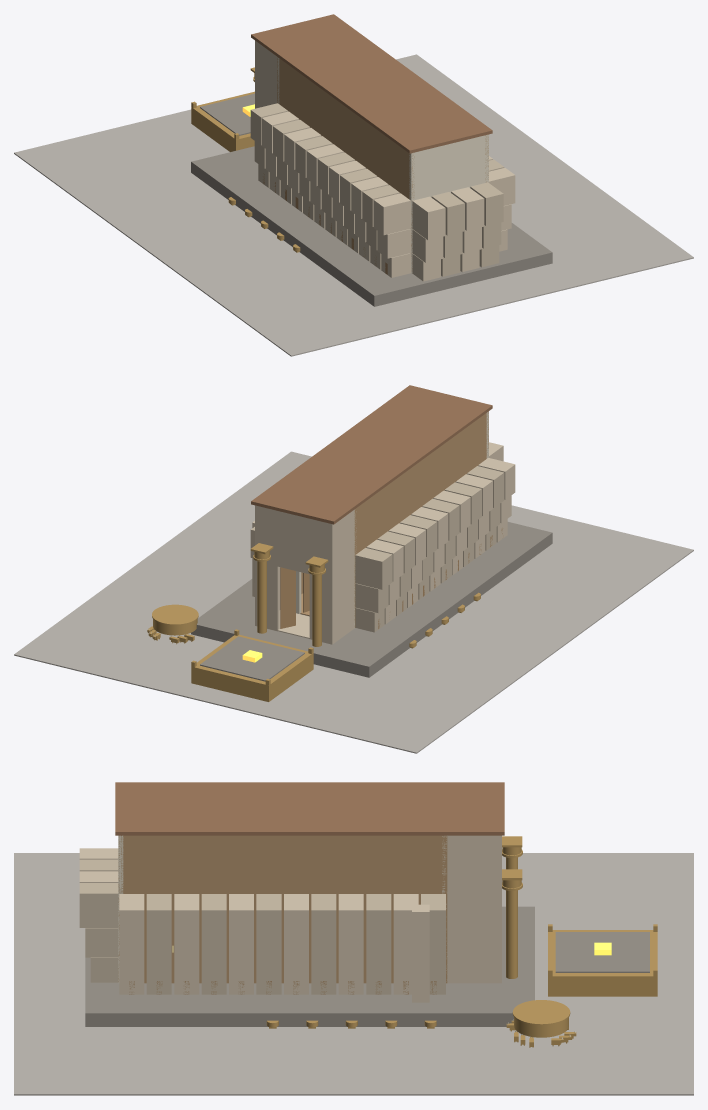
The model's file is solomon_temple.glb.
The picture shows the model from 3 angles, top to bottom: view 1: azimuth 30°, elevation 25°; view 2: azimuth 150°, elevation 25°; view 3: azimuth 270°, elevation 25°; orthographic projection. The views are drawn at different scales.
Parts seen in each view (by area): view 1: Court, Roof, Foundation, HolyPlace_WallNegX, HolyOfHolies_WallNegY, HolyOfHolies_WallNegX, SideChamber_L3_B01, Altar, AltarHearth, SideChamber_Rear3_B01, Porch_WallNegX, SideChamber_Rear3_B03 (+18 smaller); view 2: Court, Roof, Foundation, HolyPlace_WallNegX, Porch_WallNegX, Altar, AltarHearth, HolyOfHolies_WallNegX, Porch_WallPosY_R, Porch_WallPosY_Lintel, Porch_WallPosY_L, SideChamber_L3_B12 (+17 smaller); view 3: Court, Roof, Foundation, HolyPlace_WallPosX, Porch_WallPosX, HolyOfHolies_WallPosX, AltarHearth, Altar, SideChamber_Rear3_B04, StairTower, SideChamber_R3_B01, SideChamber_R3_B02 (+38 smaller).
Part boxes in pixels (box(x1,y1,x2,y2)): Court: box(14, 54, 693, 356); Roof: box(251, 14, 492, 153); Foundation: box(191, 146, 552, 306); HolyPlace_WallNegX: box(277, 57, 366, 168); HolyOfHolies_WallNegY: box(409, 134, 488, 273); HolyOfHolies_WallNegX: box(366, 122, 414, 268); SideChamber_L3_B01: box(373, 193, 410, 235); Altar: box(191, 91, 254, 151); AltarHearth: box(200, 93, 254, 135); SideChamber_Rear3_B01: box(412, 196, 445, 240); Porch_WallNegX: box(255, 42, 277, 107); SideChamber_Rear3_B03: box(451, 187, 484, 230); Court: box(14, 451, 693, 753); Roof: box(251, 385, 492, 524); Foundation: box(191, 522, 552, 677); HolyPlace_WallNegX: box(354, 444, 443, 627); Porch_WallNegX: box(328, 510, 354, 644); Altar: box(191, 634, 313, 701); AltarHearth: box(200, 636, 304, 681); HolyOfHolies_WallNegX: box(444, 412, 488, 490); Porch_WallPosY_R: box(255, 505, 279, 631); Porch_WallPosY_Lintel: box(277, 511, 309, 574); Porch_WallPosY_L: box(309, 519, 334, 643); SideChamber_L3_B12: box(355, 548, 392, 589); Court: box(14, 853, 693, 1095); Roof: box(115, 782, 504, 835); Foundation: box(85, 906, 534, 1026); HolyPlace_WallPosX: box(228, 835, 447, 983); Porch_WallPosX: box(447, 835, 501, 983); HolyOfHolies_WallPosX: box(118, 835, 227, 983); AltarHearth: box(555, 932, 649, 972); Altar: box(548, 930, 657, 996); SideChamber_Rear3_B04: box(79, 883, 118, 927); StairTower: box(412, 904, 429, 1002); SideChamber_R3_B01: box(119, 894, 144, 944); SideChamber_R3_B02: box(146, 894, 171, 944).
Size of the model in its own units: 52 by 16.88 by 62.
